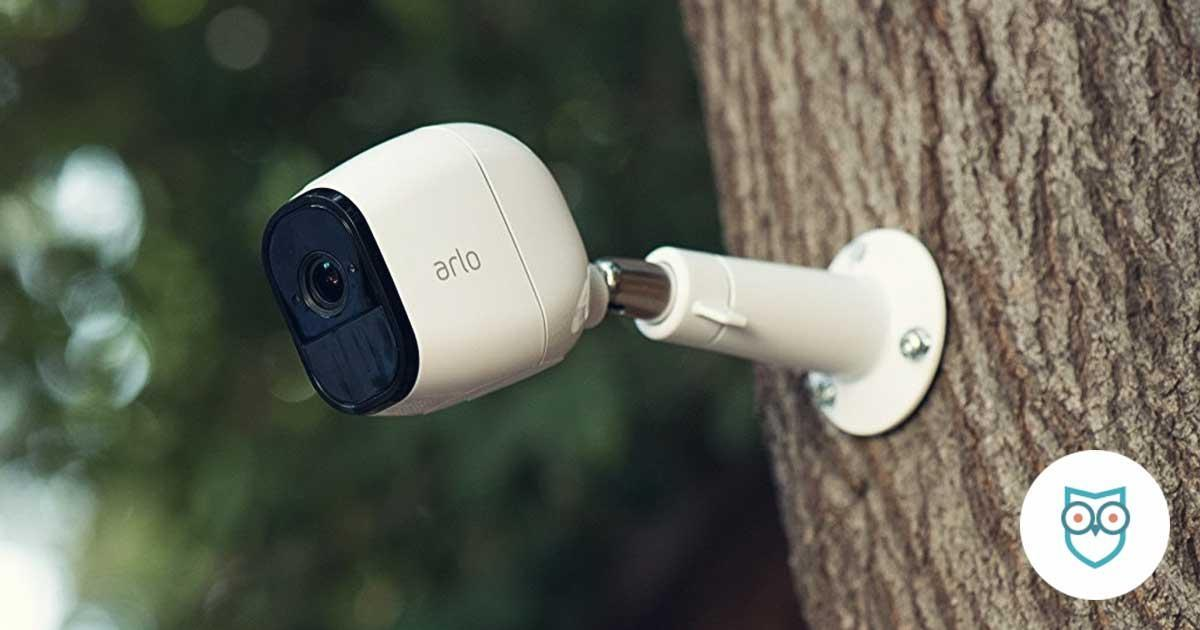Security camera: (258, 119, 948, 437)
